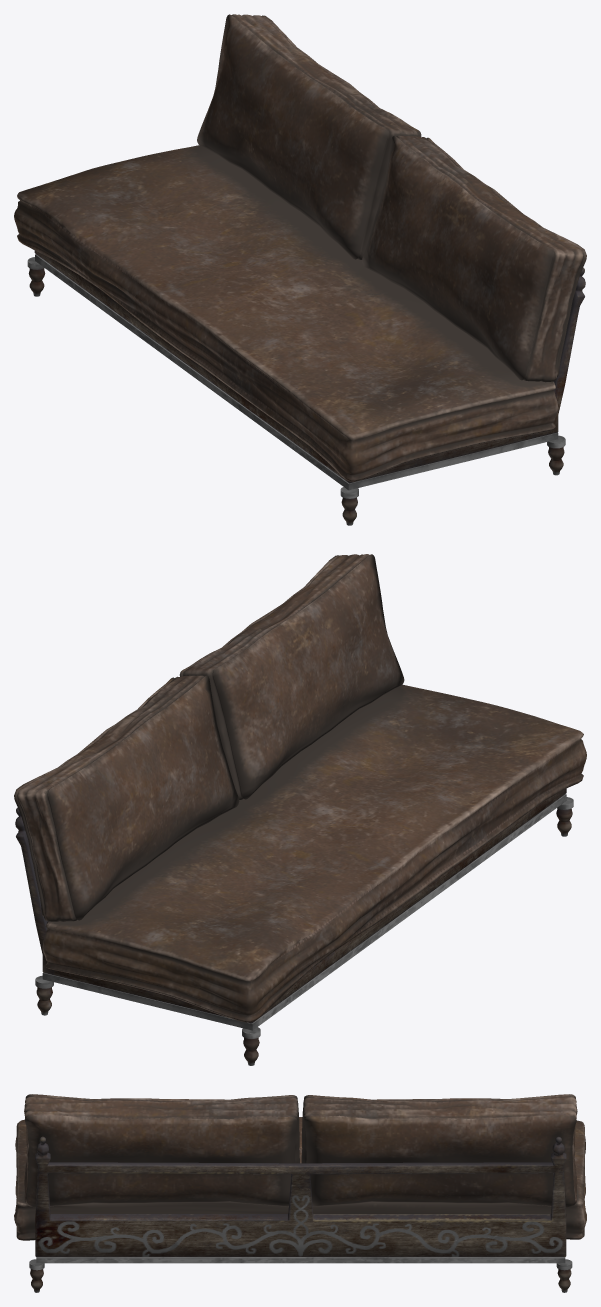
Rendered from SM_MedievalSofaS.fbx.
3 renders of one model, top to bottom at view 1: azimuth 30°, elevation 25°; view 2: azimuth 150°, elevation 25°; view 3: azimuth 270°, elevation 25°, orthographic. The views are drawn at different scales.
Parts seen in each view (by area): view 1: SM_MedievalSofaS_LOD0; view 2: SM_MedievalSofaS_LOD0; view 3: SM_MedievalSofaS_LOD0.
Boxes of the visible parts, <box> form: SM_MedievalSofaS_LOD0: <box>14,14,586,525</box>; SM_MedievalSofaS_LOD0: <box>14,554,586,1065</box>; SM_MedievalSofaS_LOD0: <box>14,1094,586,1292</box>.
Size of the model in its own units: 154 by 354 by 132.
1 material, 1 textured.
